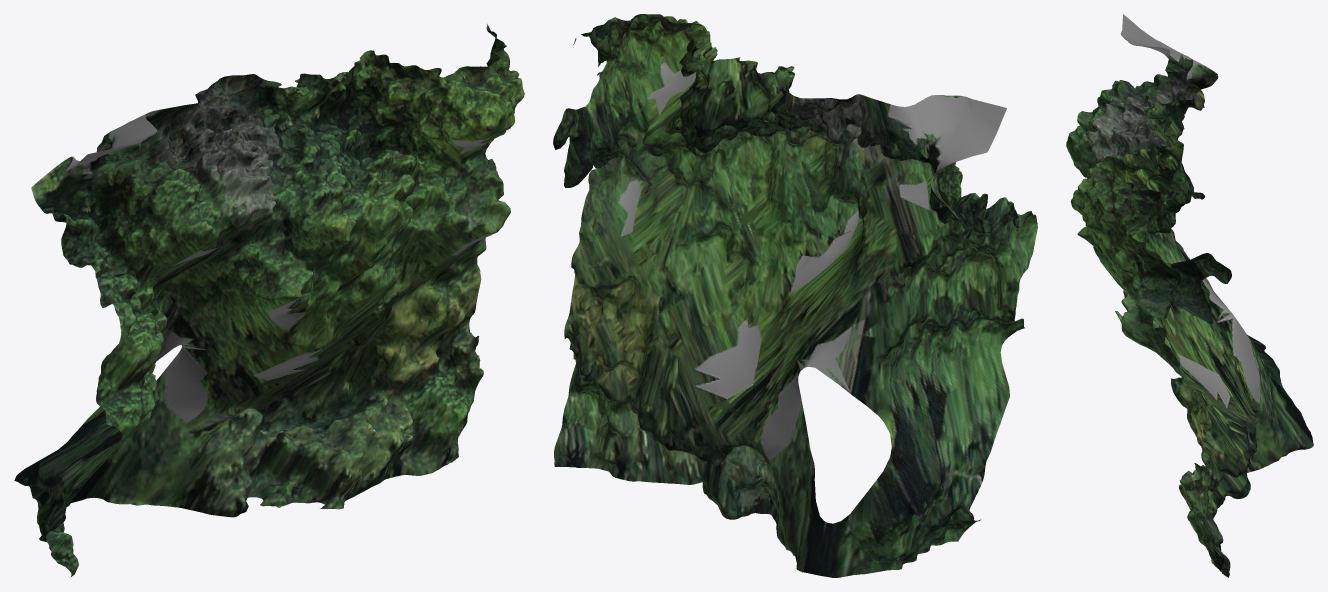
The model's file is Tile_+007_+003.fbx.
The picture shows the model from 3 angles, left to right: view 1: azimuth 30°, elevation 25°; view 2: azimuth 150°, elevation 25°; view 3: azimuth 270°, elevation 25°; orthographic projection. The views are drawn at different scales.
Parts seen in each view (by area): view 1: DefaultName; view 2: DefaultName; view 3: DefaultName.
Boxes of the visible parts, left/top/right/bottom form: DefaultName: left=14, top=24, right=524, bottom=577; DefaultName: left=553, top=14, right=1037, bottom=577; DefaultName: left=1066, top=14, right=1313, bottom=577.
Bounding box in the file's own units: 22.54 × 22.54 × 13.16.
